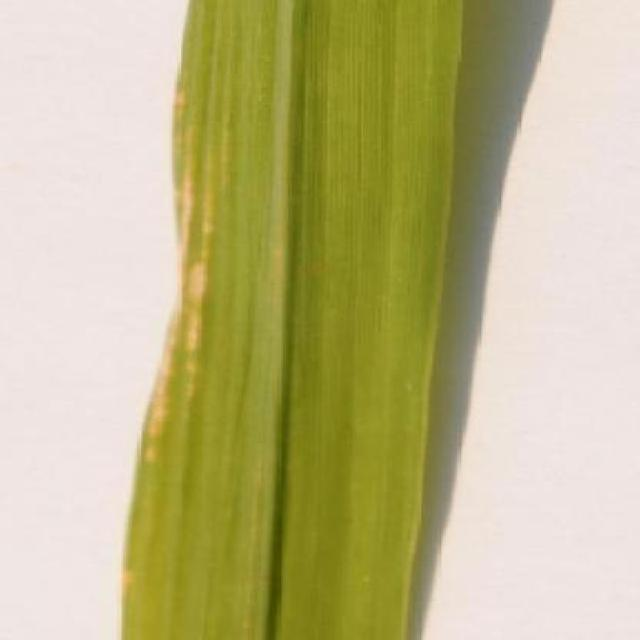Brown_Spot: (118, 0, 468, 640)
